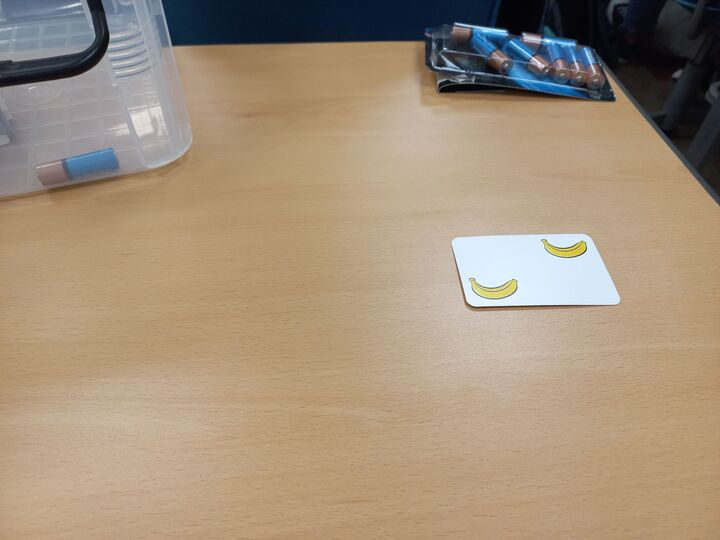banana2: (451, 232, 622, 310)
